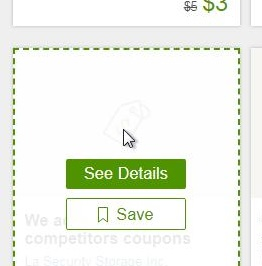cursor: (120, 126, 137, 151)
